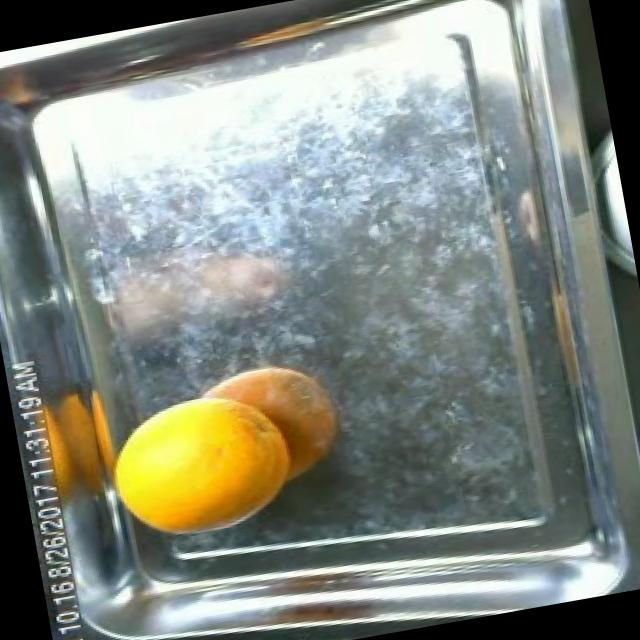Fruit: (87, 362, 318, 557)
